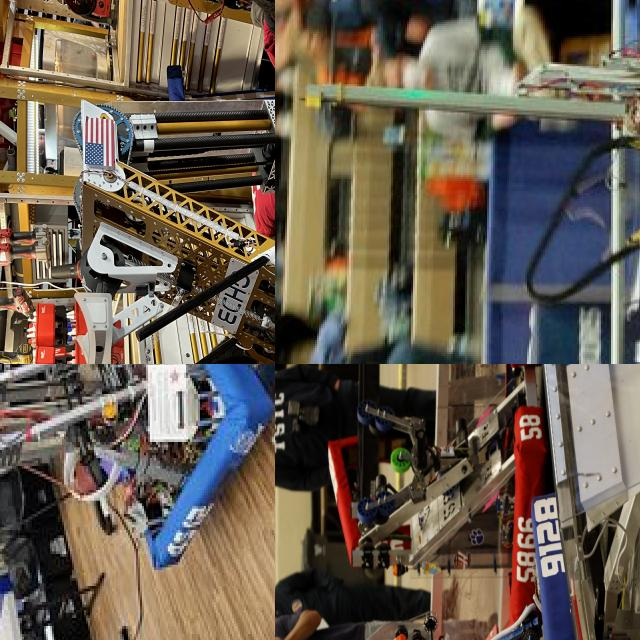FRC-Robots: (344, 2, 640, 364), (9, 51, 275, 364), (302, 364, 558, 640), (0, 364, 254, 609), (348, 482, 605, 640)
